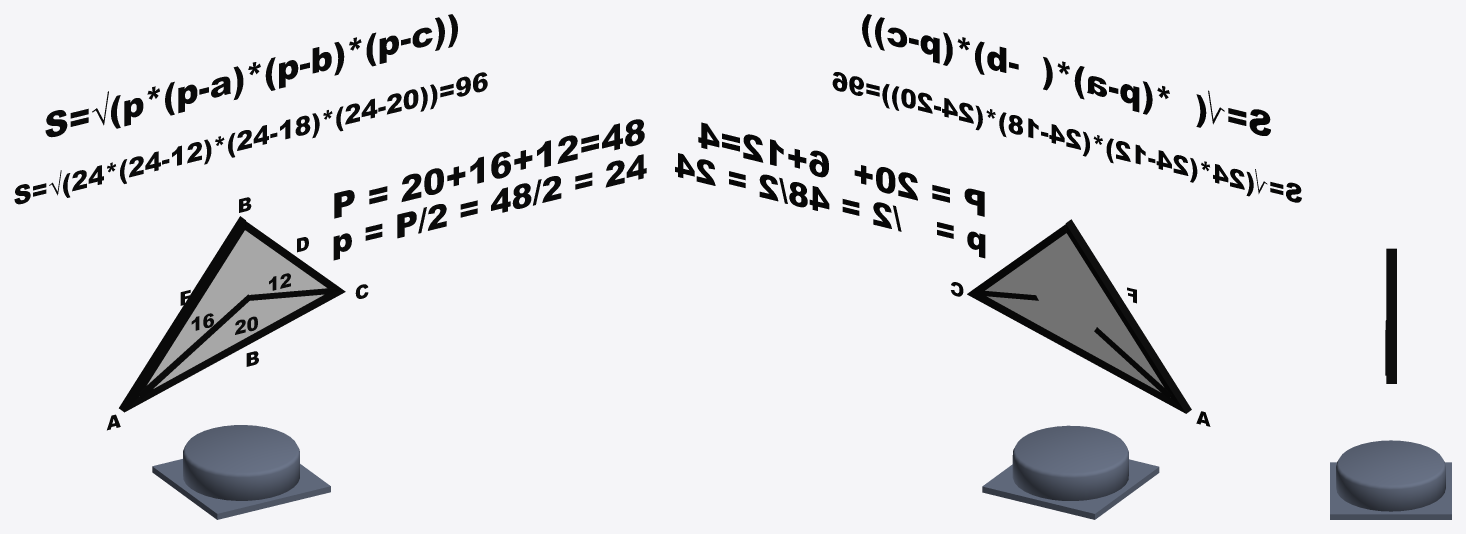
3 renders of one model, left to right at view 1: azimuth 30°, elevation 25°; view 2: azimuth 150°, elevation 25°; view 3: azimuth 270°, elevation 25°, orthographic. The views are drawn at different scales.
Parts seen in each view (by area): view 1: Cube.001, Cylinder, Text.004, Text.005, Text.012, Text.013, Cube, Cube.002; view 2: Cube.001, Cylinder, Text.005, Text.004, Text.012, Text.013, Cube; view 3: Cylinder, Cube, Cube.001.
Part boxes in pixels (left/top/right/bottom): Cube.001: left=119, top=216, right=345, bottom=412; Cylinder: left=183, top=425, right=299, bottom=500; Text.004: left=45, top=14, right=457, bottom=137; Text.005: left=14, top=72, right=487, bottom=204; Text.012: left=334, top=119, right=644, bottom=218; Text.013: left=333, top=154, right=646, bottom=260; Cube: left=152, top=459, right=330, bottom=519; Cube.002: left=139, top=294, right=249, bottom=398; Cube.001: left=967, top=219, right=1191, bottom=413; Cylinder: left=1012, top=425, right=1128, bottom=500; Text.005: left=832, top=72, right=1301, bottom=202; Text.004: left=862, top=14, right=1270, bottom=135; Text.012: left=698, top=122, right=984, bottom=216; Text.013: left=675, top=153, right=985, bottom=258; Cube: left=982, top=459, right=1159, bottom=519; Cylinder: left=1336, top=440, right=1445, bottom=511; Cube: left=1330, top=462, right=1451, bottom=519; Cube.001: left=1386, top=248, right=1396, bottom=383.
Size of the model in its own units: 50.94 by 32.82 by 9.09.
